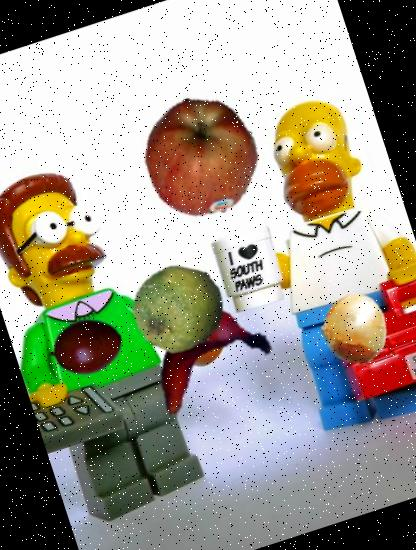Apple: (126, 80, 278, 232)
Banana: (124, 277, 282, 436)
Limes: (121, 251, 236, 366)
Onion: (310, 283, 398, 372)
Tamarillo: (35, 298, 132, 395)
